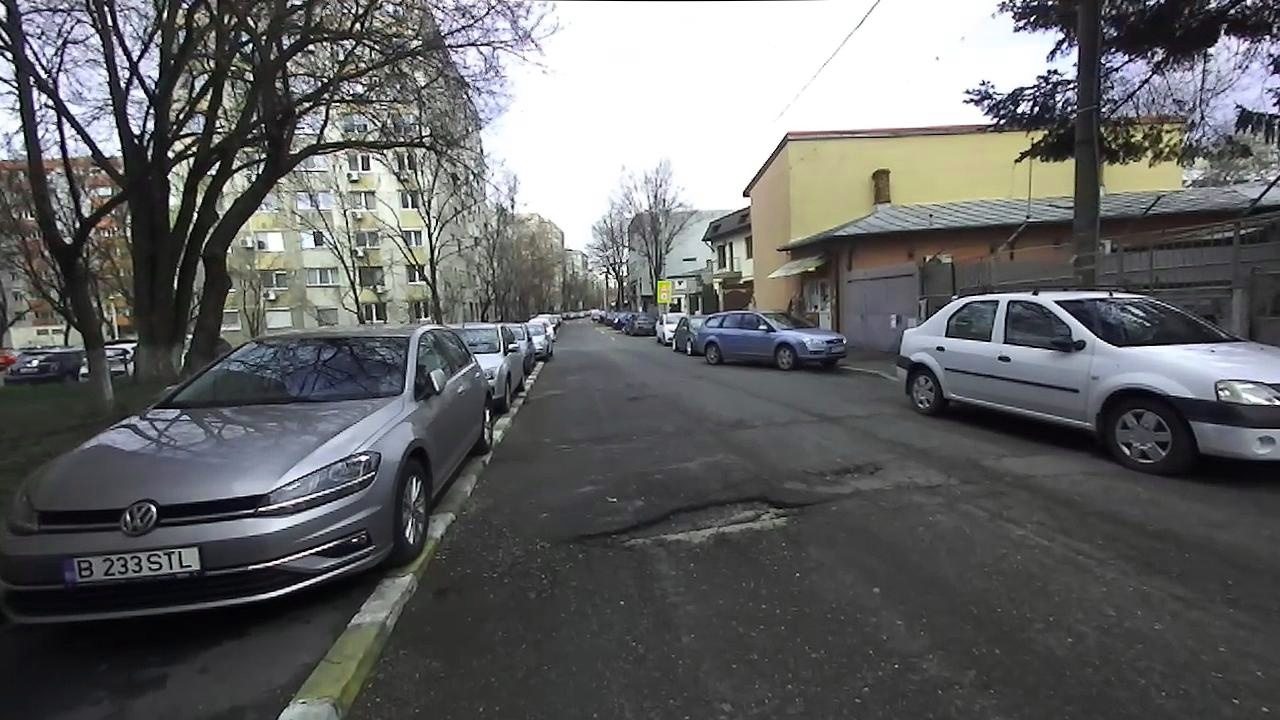pothole: (568, 492, 832, 552), (801, 459, 888, 481)
